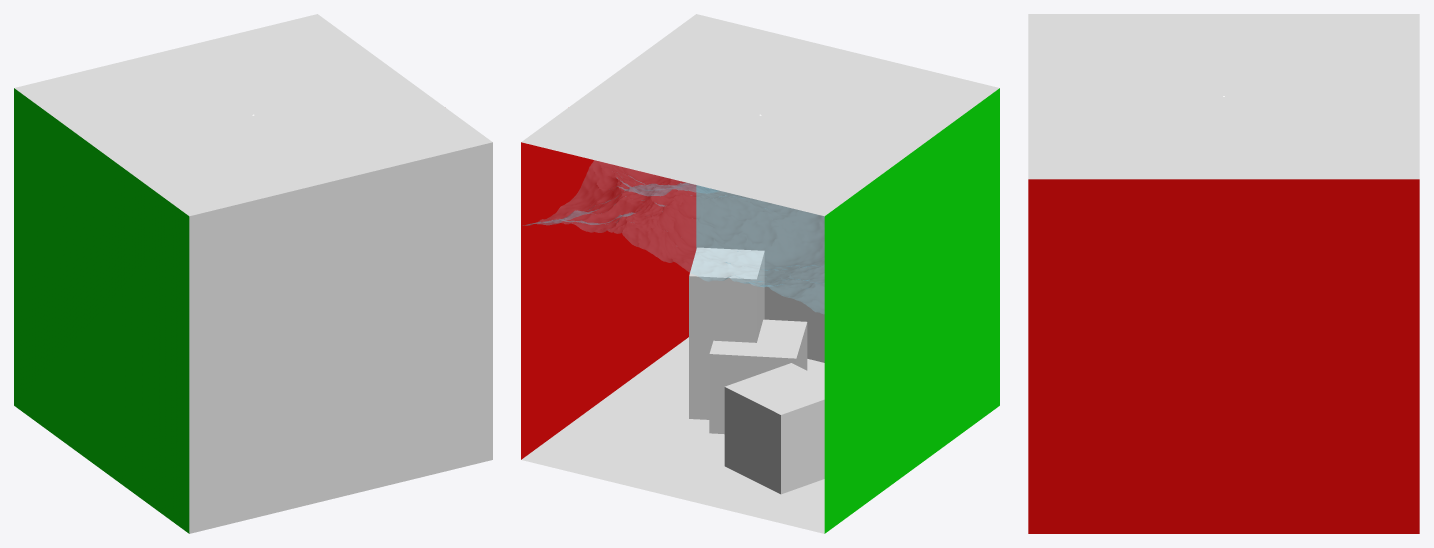
Rendered from caustics_cubes.glb.
The picture shows the model from 3 angles, left to right: view 1: azimuth 30°, elevation 25°; view 2: azimuth 150°, elevation 25°; view 3: azimuth 270°, elevation 25°; orthographic projection. The views are drawn at different scales.
Visible parts, largest first — view 1: Back, Right, Top Small; view 2: Right, Top Small, Left, Water Sheet, Bottom, Back, Cube Small, Cube Tall, Cube Small Intersect; view 3: Left, Top Small.
Part boxes in pixels (x1,y1,x2,y2): Back: (189, 142, 492, 533); Right: (14, 88, 189, 533); Top Small: (14, 14, 492, 216); Right: (824, 88, 999, 533); Top Small: (521, 14, 999, 216); Left: (521, 142, 696, 459); Water Sheet: (522, 160, 824, 313); Bottom: (521, 337, 824, 533); Back: (696, 185, 824, 362); Cube Small: (724, 363, 824, 494); Cube Tall: (689, 247, 764, 419); Cube Small Intersect: (709, 319, 807, 434); Left: (1028, 179, 1419, 533); Top Small: (1028, 14, 1419, 179).
Size of the model in its own units: 2 by 2.01 by 2.
